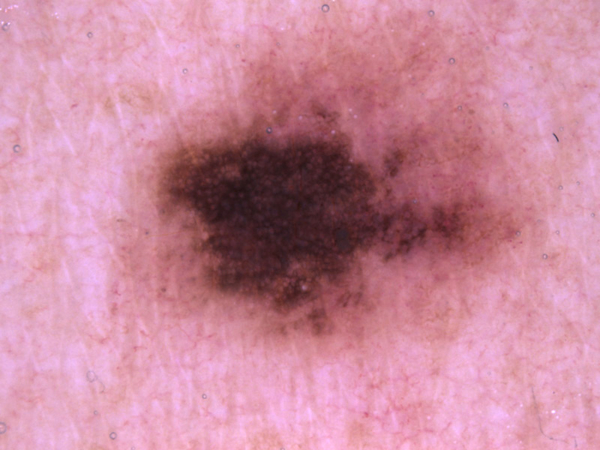Detected Lesion: (111, 25, 519, 339)
